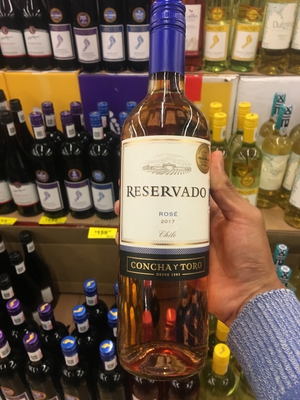reservado rose: (114, 14, 216, 381)
